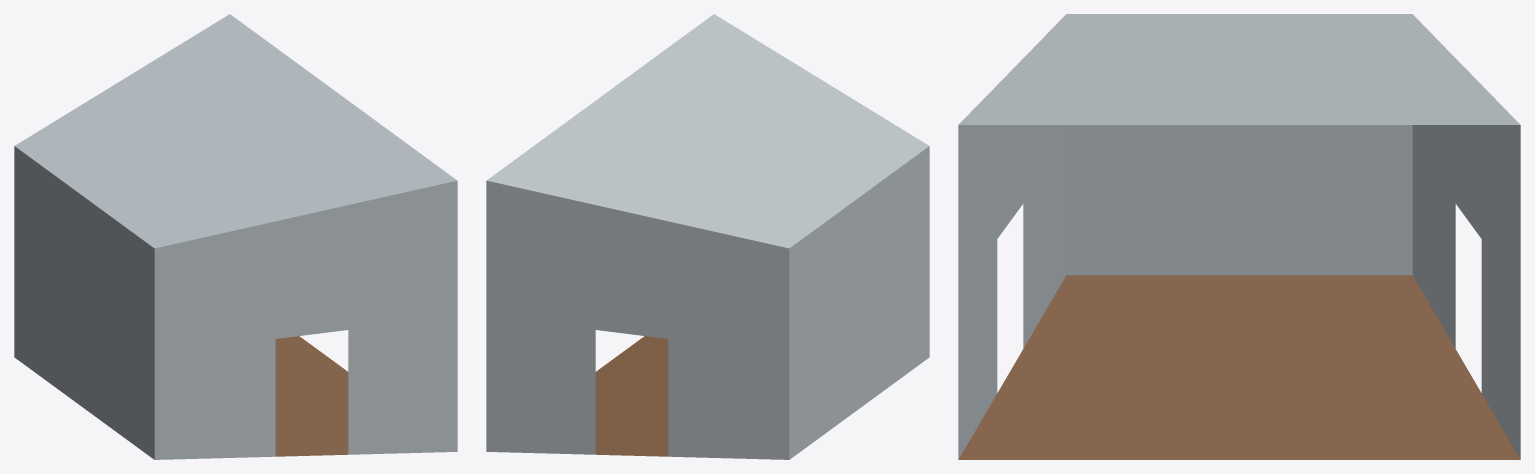
The model's file is Room_empty_start.fbx.
3 renders of one model, left to right at view 1: azimuth 30°, elevation 25°; view 2: azimuth 150°, elevation 25°; view 3: azimuth 270°, elevation 25°, orthographic. The views are drawn at different scales.
Parts seen in each view (by area): view 1: pCube1; view 2: pCube1; view 3: pCube1.
Boxes of the visible parts, x1,y1,x2,y2 form: pCube1: (14,14,457,459); pCube1: (486,14,929,459); pCube1: (958,14,1520,459).
Bounding box in the file's own units: 5.29 × 5.29 × 8.04.
